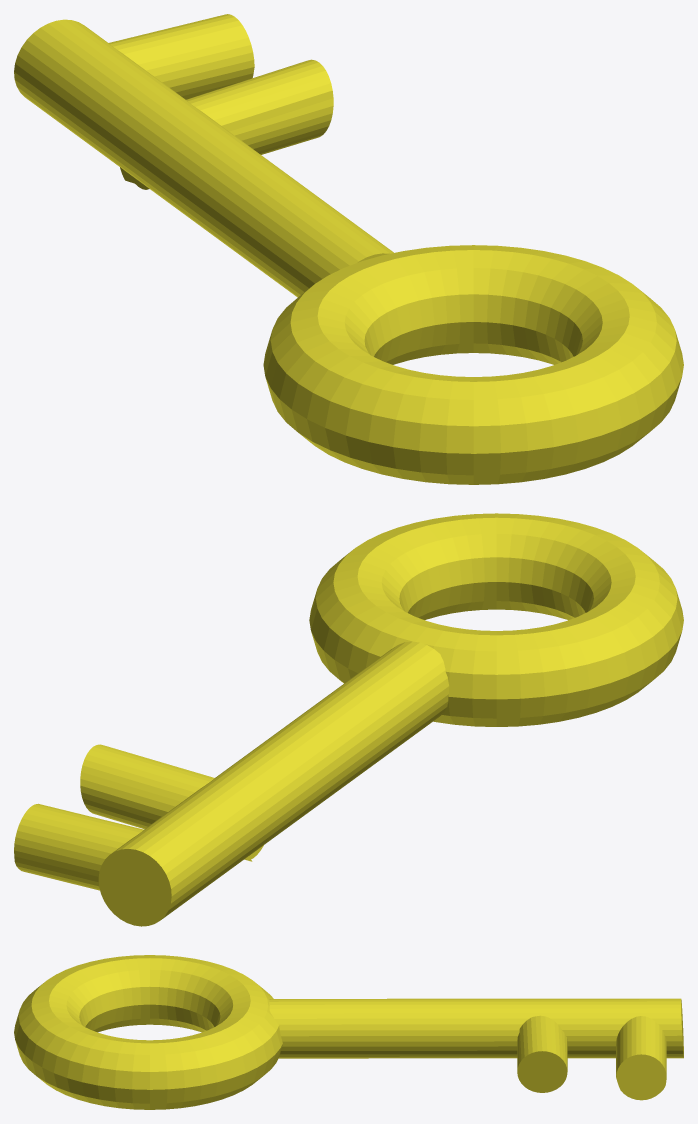
Rendered from key.fbx.
3 views of the same model, one above another, from view 1: azimuth 30°, elevation 25°; view 2: azimuth 150°, elevation 25°; view 3: azimuth 270°, elevation 25° (orthographic). The views are drawn at different scales.
Visible parts, largest first — view 1: Torus.001; view 2: Torus.001; view 3: Torus.001.
Part boxes in pixels (left/top/right/bottom): Torus.001: left=14, top=14, right=683, bottom=484; Torus.001: left=14, top=513, right=683, bottom=926; Torus.001: left=14, top=955, right=683, bottom=1109.
Bounding box in the file's own units: 132 × 34 × 325.
